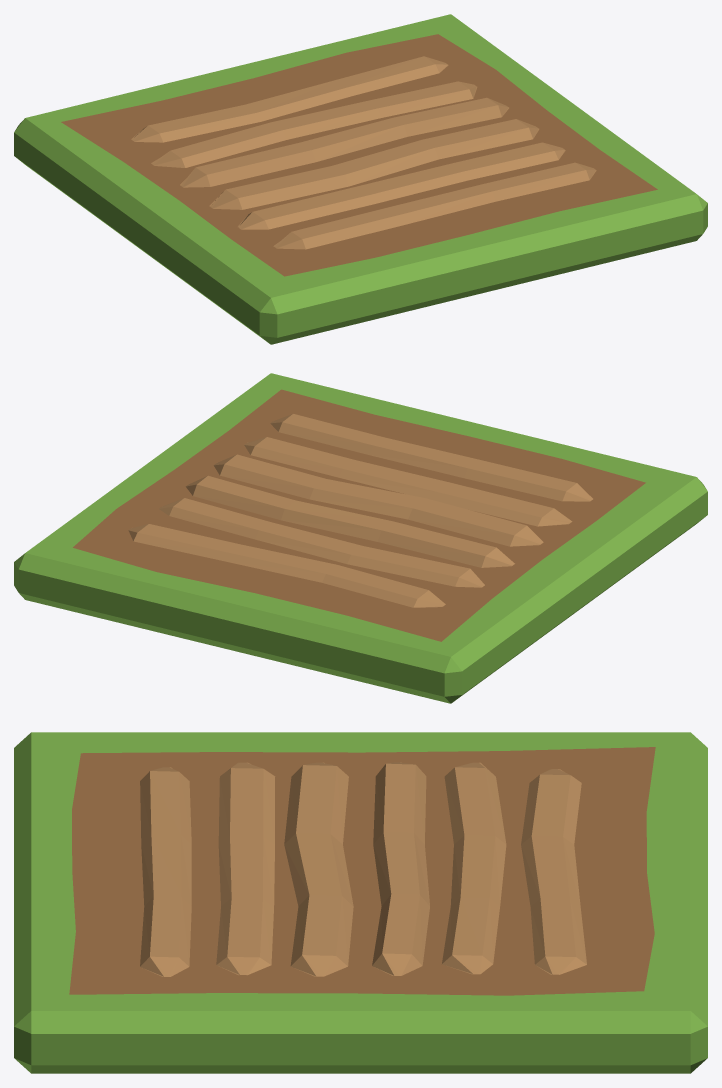
Rendered from tile_soil.fbx.
3 renders of one model, top to bottom at view 1: azimuth 30°, elevation 25°; view 2: azimuth 150°, elevation 25°; view 3: azimuth 270°, elevation 25°, orthographic. The views are drawn at different scales.
Parts seen in each view (by area): view 1: tile_soil; view 2: tile_soil; view 3: tile_soil.
Part boxes in pixels (x1,y1,x2,y2): tile_soil: (14, 14, 707, 344); tile_soil: (14, 373, 707, 703); tile_soil: (14, 732, 707, 1073).
Size of the model in its own units: 1 by 0.1207 by 1.
